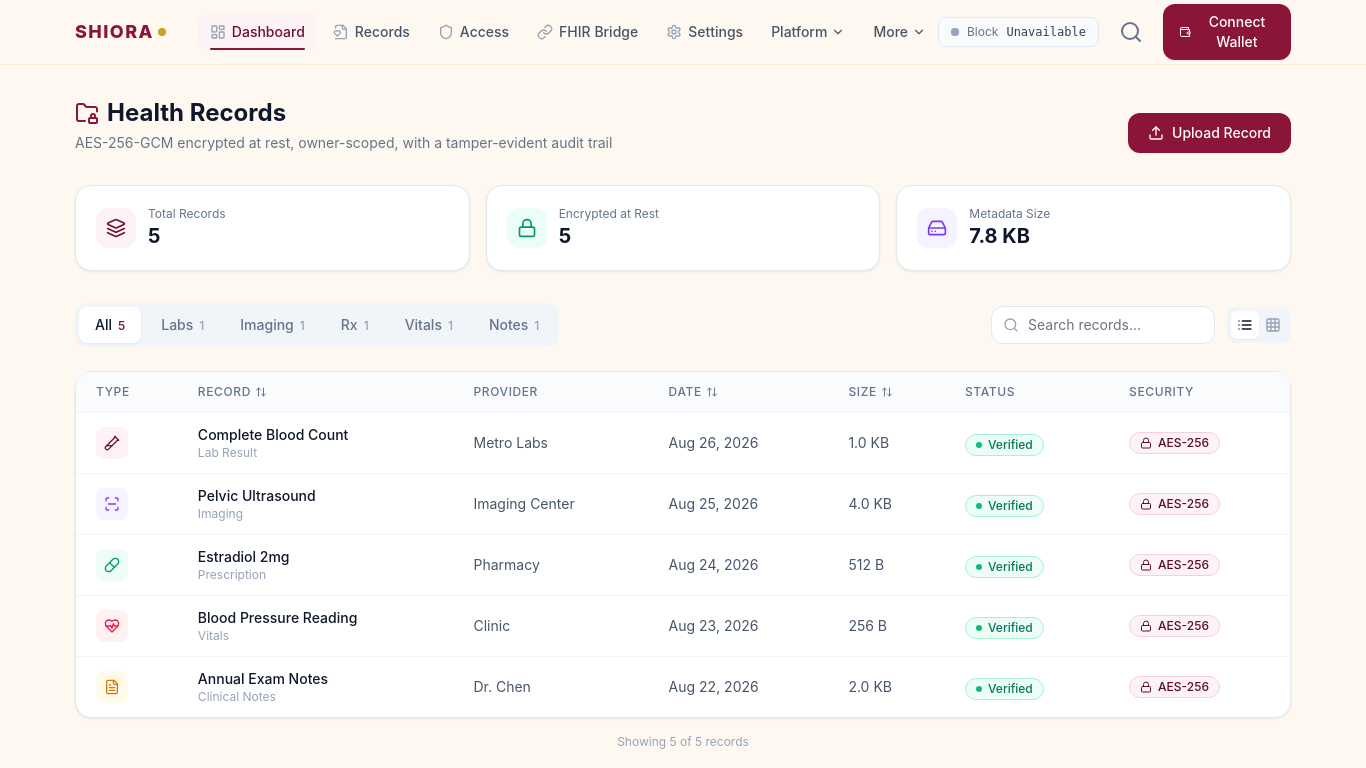
RecordsPage › opens record detail modal when a row is clicked
Click the row that starts with "Complete Blood Count" at (683, 443), box [76,412,1290,474]
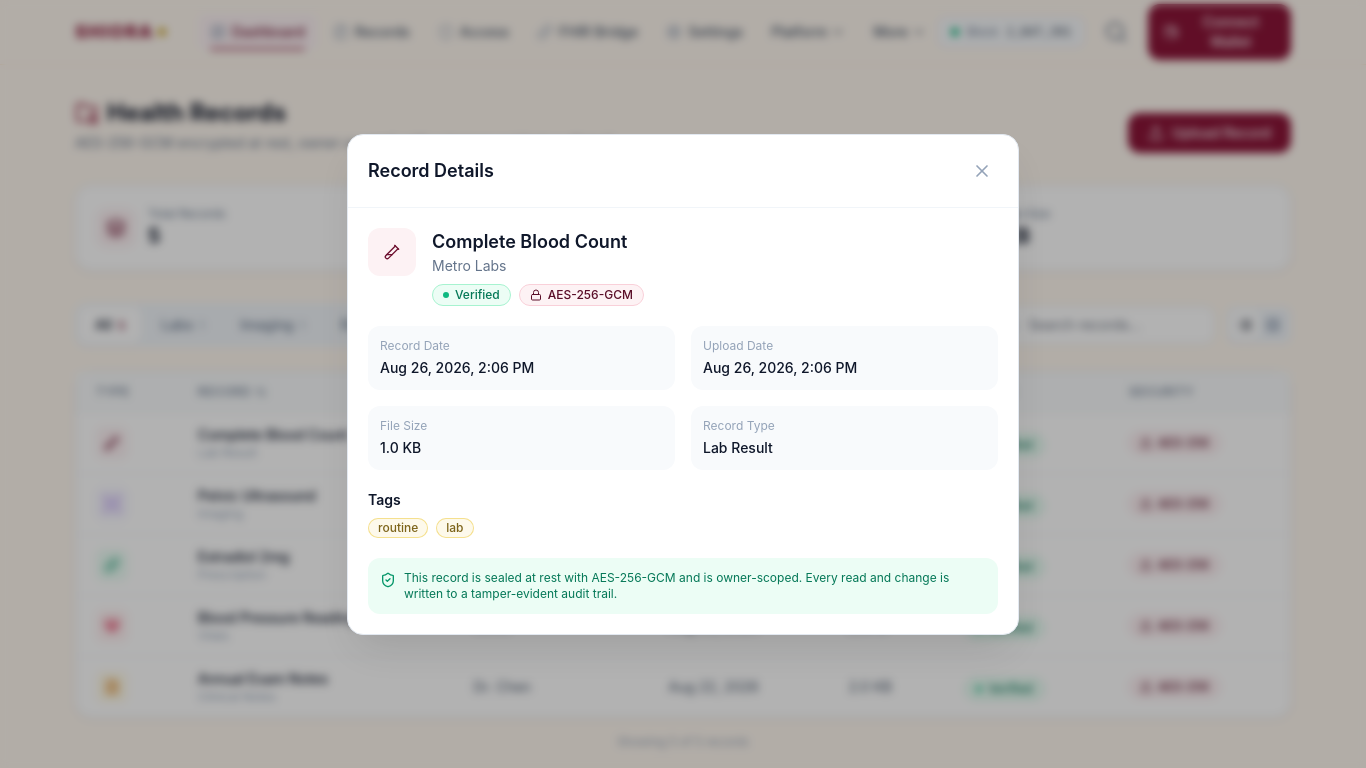
Check: the heading "Record Details" is shown, box [368,156,494,184]
